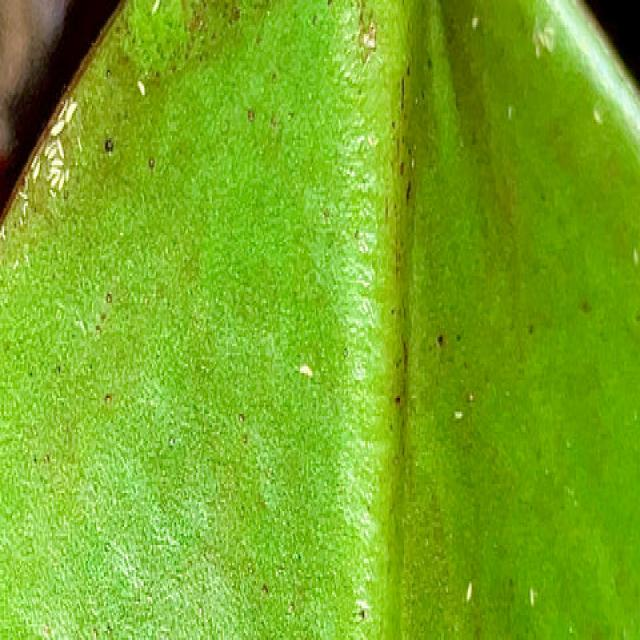Thrip-Larva-: (298, 354, 316, 389), (462, 576, 480, 607), (134, 69, 149, 101)
